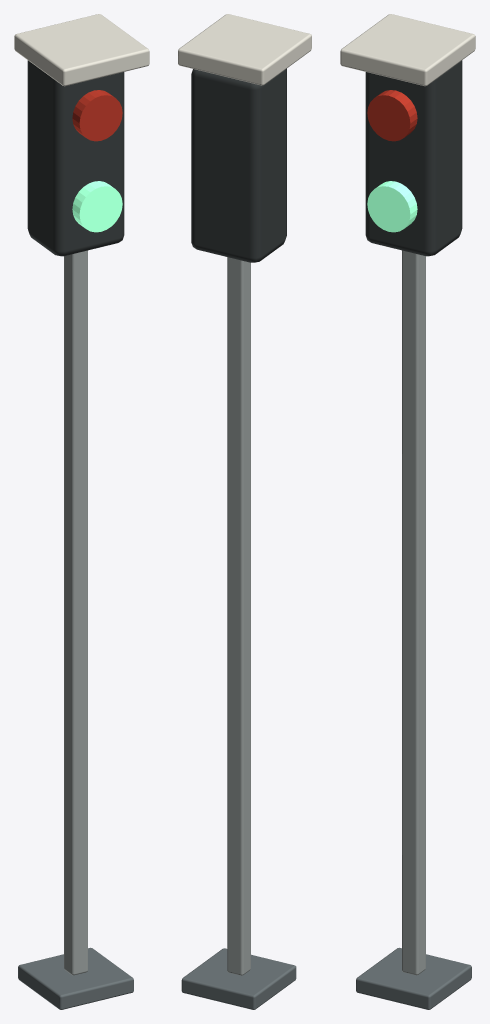
File: automated-parking-and-vehicle-retrieval-automated-park-78305420__30352.glb
3 renders of one model, left to right at view 1: azimuth 30°, elevation 25°; view 2: azimuth 150°, elevation 25°; view 3: azimuth 330°, elevation 25°, orthographic.
Visible parts, largest first — view 1: automated-parking-and-vehicle-retrieval-entry-signal-light; view 2: automated-parking-and-vehicle-retrieval-entry-signal-light; view 3: automated-parking-and-vehicle-retrieval-entry-signal-light.
Boxes of the visible parts, x1,y1,x2,y2 form: automated-parking-and-vehicle-retrieval-entry-signal-light: (14,14,149,1009); automated-parking-and-vehicle-retrieval-entry-signal-light: (178,14,311,1009); automated-parking-and-vehicle-retrieval-entry-signal-light: (340,14,475,1009).
Bounding box in the file's own units: 0.21 × 2.19 × 0.22.
